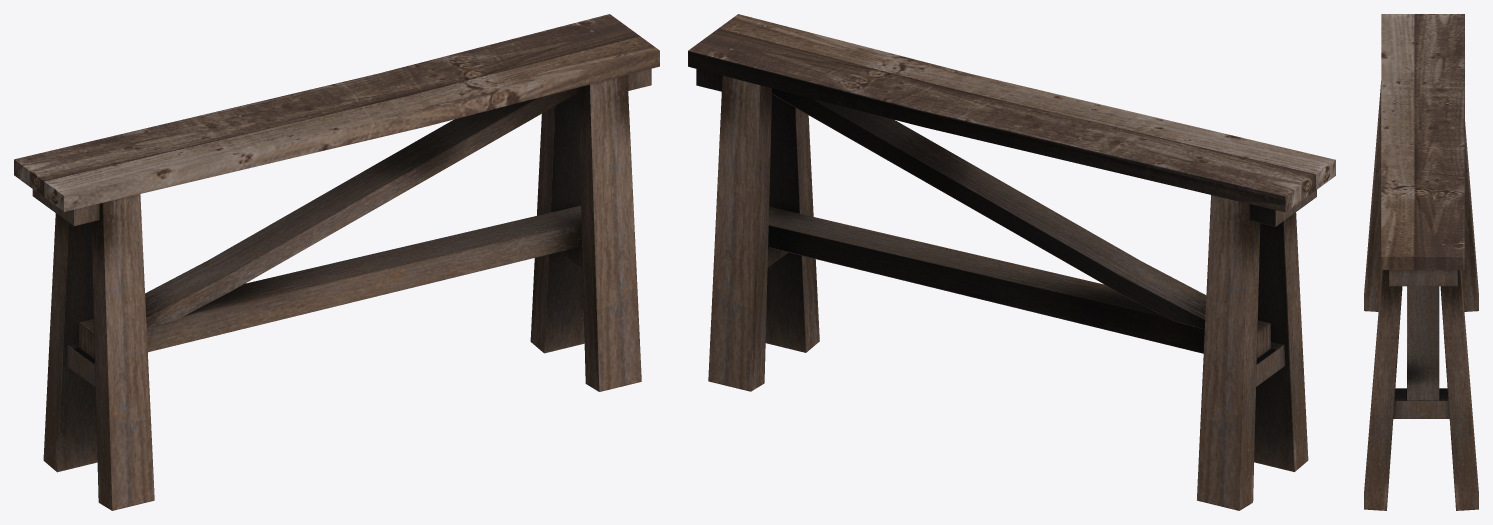
Rendered from NNJ0810005.fbx.
3 views of the same model, side by side, from view 1: azimuth 30°, elevation 25°; view 2: azimuth 150°, elevation 25°; view 3: azimuth 270°, elevation 25° (orthographic). The views are drawn at different scales.
Visible parts, largest first — view 1: smNNJ0810005; view 2: smNNJ0810005; view 3: smNNJ0810005.
Boxes of the visible parts, x1=… form: smNNJ0810005: x1=14, y1=14, x2=659, y2=510; smNNJ0810005: x1=688, y1=14, x2=1335, y2=510; smNNJ0810005: x1=1364, y1=14, x2=1478, y2=510.
Size of the model in its own units: 147 by 75.16 by 29.44.
Materials: 1 (1 with a texture image).
